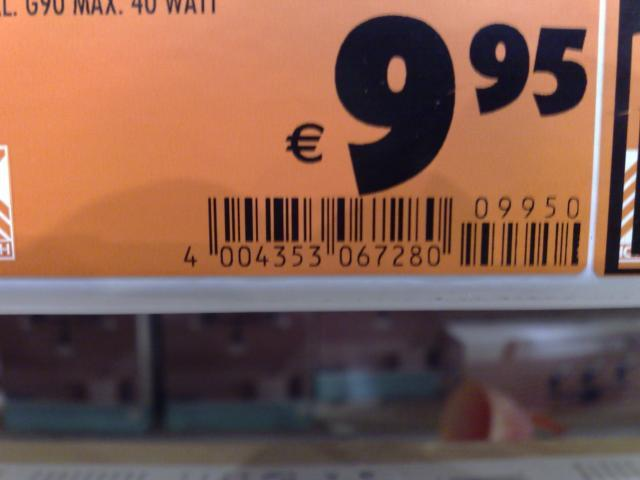Barcode: (174, 183, 460, 272)
